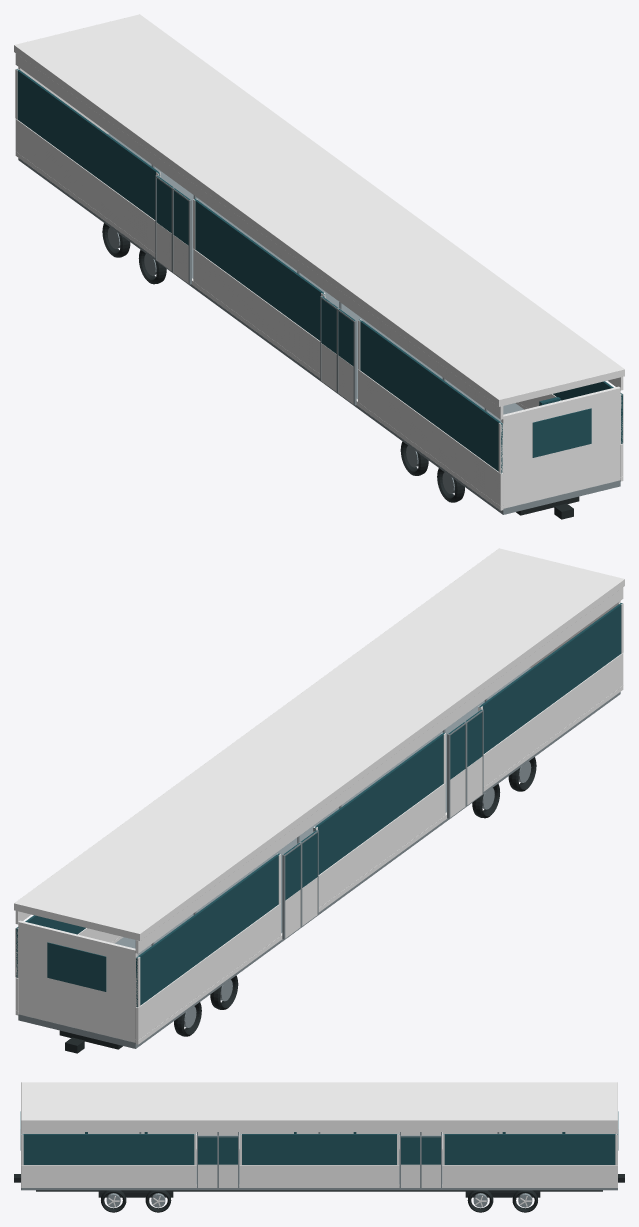
Rendered from mrt-train-carriage.glb.
The picture shows the model from 3 angles, top to bottom: view 1: azimuth 30°, elevation 25°; view 2: azimuth 150°, elevation 25°; view 3: azimuth 270°, elevation 25°; orthographic projection. The views are drawn at different scales.
Parts seen in each view (by area): view 1: Roof, End_Wall, Window_Band, Window_Band.002, Window_Band.001, Upper_Side_Rail, Lower_Wall, Lower_Wall.002, Lower_Wall.001, Carriage_Floor, End_Window, Lower_Side_Rail (+4 smaller); view 2: Roof, End_Wall.001, Window_Band.002, Window_Band, Window_Band.001, Upper_Side_Rail, Lower_Wall.002, Lower_Wall, Lower_Wall.001, Carriage_Floor, End_Window.001, Lower_Side_Rail (+4 smaller); view 3: Roof, Window_Band.005, Window_Band.003, Window_Band.004, Upper_Side_Rail.001, Lower_Wall.003, Lower_Wall.005, Lower_Wall.004, Carriage_Floor, Lower_Side_Rail.001, Centre_Underframe, Door_Pane_RightFront (+16 smaller).
Boxes of the visible parts, x1,y1,x2,y2 form: Roof: (14,14,624,406); End_Wall: (501,386,620,508); Window_Band: (359,319,502,473); Window_Band.002: (16,69,160,219); Window_Band.001: (194,198,325,340); Upper_Side_Rail: (15,53,503,419); Lower_Wall: (358,369,503,506); Lower_Wall.002: (15,119,155,253); Lower_Wall.001: (193,249,320,373); Carriage_Floor: (18,133,620,514); End_Window: (532,408,591,457); Lower_Side_Rail: (15,152,503,510); Roof: (14,548,624,940); End_Wall.001: (18,920,137,1042); Window_Band.002: (136,853,279,1007); Window_Band: (479,603,622,753); Window_Band.001: (313,732,444,874); Upper_Side_Rail: (135,587,623,953); Lower_Wall.002: (135,903,280,1040); Lower_Wall: (483,653,623,787); Lower_Wall.001: (318,783,445,907); Carriage_Floor: (18,667,620,1048); End_Window.001: (47,942,106,991); Lower_Side_Rail: (135,686,623,1044); Roof: (21,1082,617,1124); Window_Band.005: (442,1134,617,1164); Window_Band.003: (22,1134,195,1164); Window_Band.004: (240,1134,399,1164); Upper_Side_Rail.001: (21,1124,617,1131); Lower_Wall.003: (21,1165,196,1185); Lower_Wall.005: (442,1165,617,1185); Lower_Wall.004: (239,1165,399,1185); Carriage_Floor: (21,1151,617,1190); Lower_Side_Rail.001: (21,1185,617,1187); Centre_Underframe: (36,1190,602,1191); Door_Pane_RightFront: (198,1136,217,1164).
Size of the model in its own units: 3.07 by 3.7 by 20.48.
